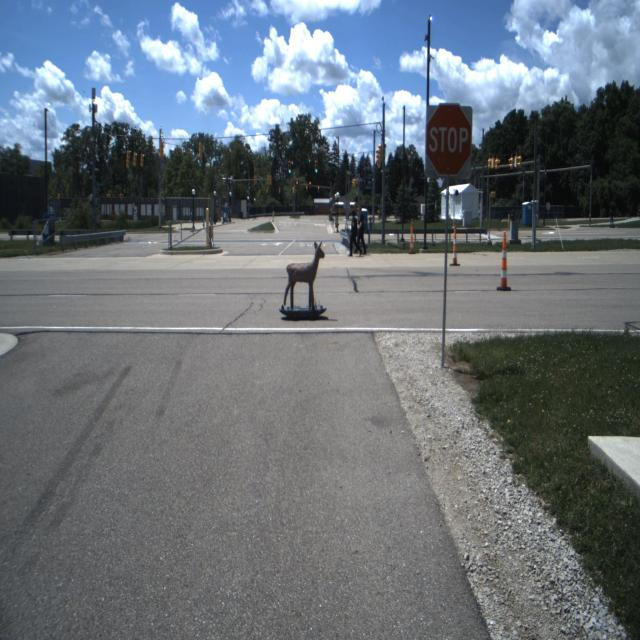Deer: (282, 240, 324, 307)
